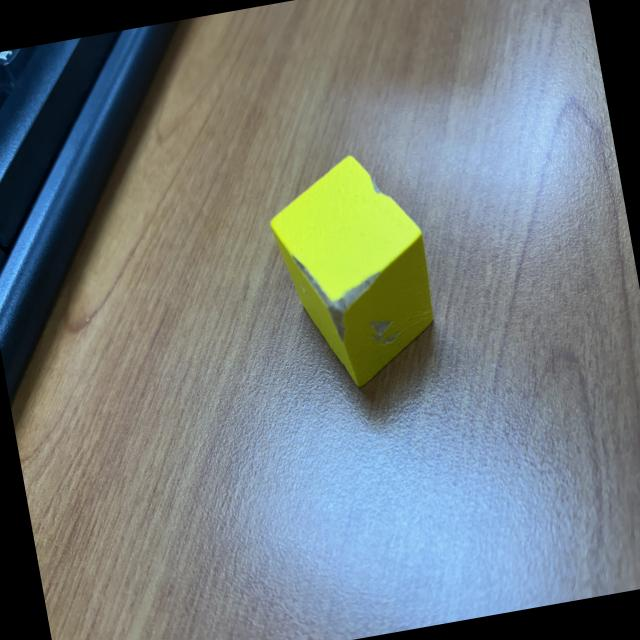broken: (260, 143, 448, 400)
